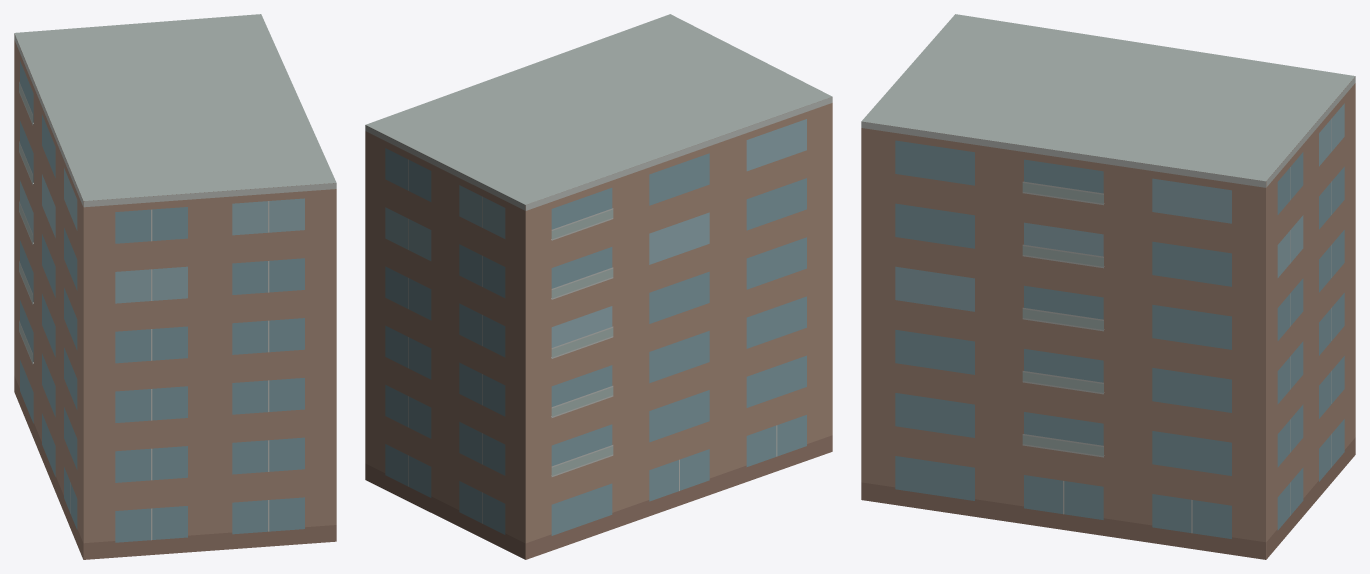
Rendered from survey-upis-32841982.glb.
3 views of the same model, side by side, from view 1: azimuth 30°, elevation 25°; view 2: azimuth 150°, elevation 25°; view 3: azimuth 270°, elevation 25° (orthographic). The views are drawn at different scales.
Visible parts, largest first — view 1: survey-upis-32841982.tmp; view 2: survey-upis-32841982.tmp; view 3: survey-upis-32841982.tmp.
Boxes of the visible parts, left/top/right/bottom form: survey-upis-32841982.tmp: left=14, top=14, right=336, bottom=559; survey-upis-32841982.tmp: left=365, top=14, right=832, bottom=559; survey-upis-32841982.tmp: left=861, top=14, right=1355, bottom=559.
Size of the model in its own units: 13.48 by 14.2 by 16.82.
